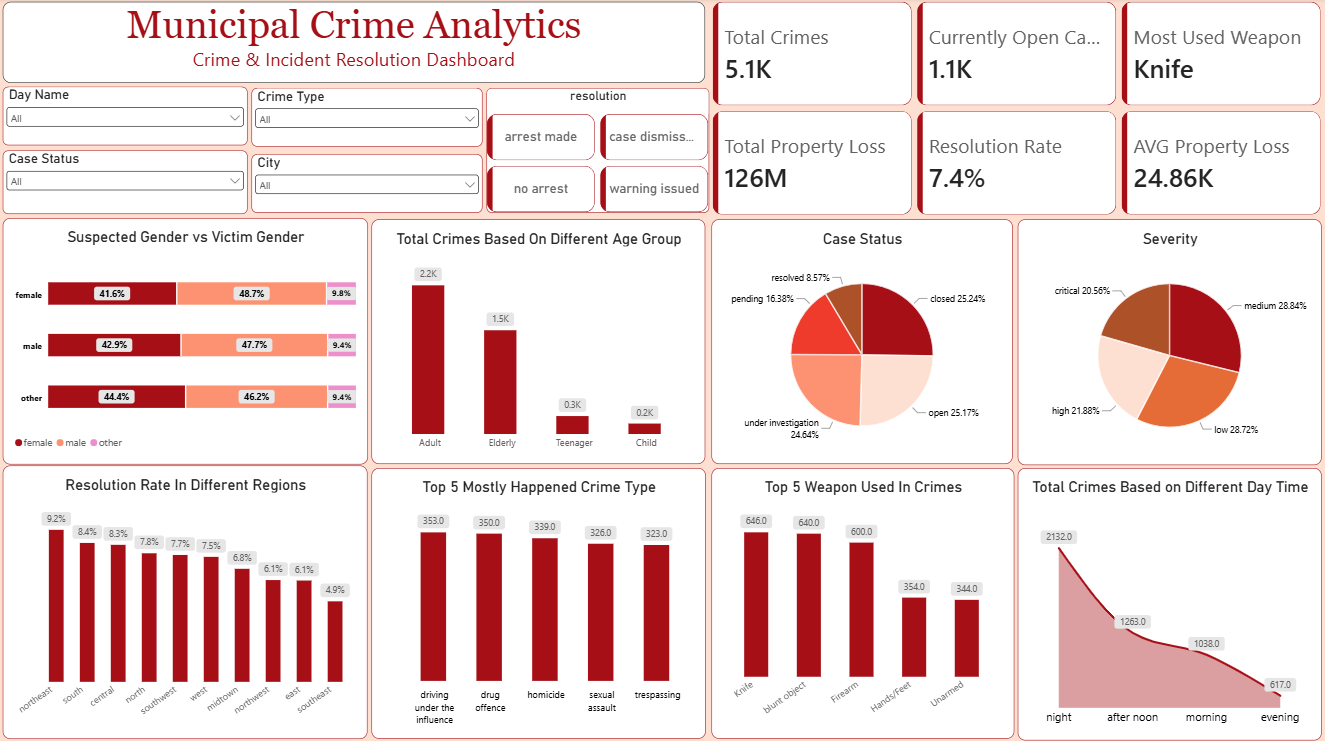

What the dashboard file says about the page in this screenshot:
{"tool":"powerbi","page":{"name":"Page 1","canvas":[1920,1080],"ordinal":0},"visuals":[{"type":"textbox","box":[5.4,5.4,1017,117.6],"z":0},{"type":"cardVisual","fields":{"Data":["crime_data crime_incidents.total_crimes","crime_data crime_incidents.currently_open_cases","crime_data crime_incidents.most_used_weapon","crime_data crime_incidents.total_property_loss","crime_data crime_incidents.Resolution Rate","crime_data crime_incidents.AVG Property Loss"]},"box":[1034,6,882,308],"z":1000},{"type":"areaChart","title":"Total Crimes Based on Different Day Time","fields":{"Category":["crime_data crime_incidents.day_time"],"Y":["crime_data crime_incidents.total_crimes"]},"box":[1474,680,440,394],"z":2000},{"type":"columnChart","title":"Top 5 Weapon Used In Crimes","fields":{"Category":["crime_data crime_incidents.weapon_used"],"Y":["crime_data crime_incidents.total_crimes"]},"box":[1032,680,438,392],"z":3000},{"type":"pieChart","title":"Case Status","fields":{"Category":["crime_data crime_incidents.case_status"],"Y":["crime_data crime_incidents.total_crimes"]},"box":[1032,320,436,354],"z":4000},{"type":"columnChart","title":"Top 5 Mostly Happened Crime Type","fields":{"Category":["crime_data crime_incidents.crime_type"],"Y":["crime_data crime_incidents.total_crimes"]},"box":[539.3,680.4,484,392],"z":5000},{"type":"pieChart","title":"Severity","fields":{"Category":["crime_data crime_incidents.severity"],"Y":["crime_data crime_incidents.total_crimes"]},"box":[1474,320,440,356],"z":6000},{"type":"hundredPercentStackedBarChart","title":"Suspected Gender vs Victim Gender","fields":{"Category":["crime_data crime_incidents.suspect_gender"],"Series":["crime_data crime_incidents.victim_gender"],"Y":["crime_data crime_incidents.total_crimes"]},"box":[5.4,318.5,528.4,356.5],"z":7000},{"type":"columnChart","title":"Resolution Rate In Different Regions","fields":{"Category":["crime_data crime_incidents.district"],"Y":["crime_data crime_incidents.Resolution Rate"]},"box":[6,676,528,396],"z":8000},{"type":"columnChart","title":"Total Crimes Based On Different Age Group","fields":{"Category":["crime_data crime_incidents.victim_age_group"],"Y":["crime_data crime_incidents.total_crimes"]},"box":[539.3,320.3,483.2,354.7],"z":9000},{"type":"slicer","fields":{"Values":["crime_data crime_incidents.day_name"]},"box":[5.4,128.5,354.7,85.1],"z":10000},{"type":"slicer","fields":{"Values":["crime_data crime_incidents.case_status"]},"box":[5.4,220.8,354.7,92.3],"z":10001},{"type":"slicer","fields":{"Values":["crime_data crime_incidents.crime_type"]},"box":[365.6,130.3,334.8,85.1],"z":10002},{"type":"slicer","fields":{"Values":["crime_data crime_incidents.city"]},"box":[365.6,226.2,334.8,85.1],"z":10003},{"type":"advancedSlicerVisual","fields":{"Values":["crime_data crime_incidents.resolution"]},"box":[705.8,130.3,322.1,181],"z":10004}]}

Visuals, with their boxes in screenshot pixels (x1, y1, x2, y2), scaled from the page's 1920x1080 canvas onto the 1325x741 screenshot:
textbox: detection(4, 4, 706, 84)
cardVisual - crime_data crime_incidents.total_crimes x crime_data crime_incidents.currently_open_cases: detection(714, 4, 1322, 215)
"Total Crimes Based on Different Day Time" areaChart: detection(1017, 467, 1321, 737)
"Top 5 Weapon Used In Crimes" columnChart: detection(712, 467, 1014, 736)
"Case Status" pieChart: detection(712, 220, 1013, 462)
"Top 5 Mostly Happened Crime Type" columnChart: detection(372, 467, 706, 736)
"Severity" pieChart: detection(1017, 220, 1321, 464)
"Suspected Gender vs Victim Gender" hundredPercentStackedBarChart: detection(4, 219, 368, 463)
"Resolution Rate In Different Regions" columnChart: detection(4, 464, 369, 736)
"Total Crimes Based On Different Age Group" columnChart: detection(372, 220, 706, 463)
slicer - crime_data crime_incidents.day_name: detection(4, 88, 249, 147)
slicer - crime_data crime_incidents.case_status: detection(4, 151, 249, 215)
slicer - crime_data crime_incidents.crime_type: detection(252, 89, 483, 148)
slicer - crime_data crime_incidents.city: detection(252, 155, 483, 214)
advancedSlicerVisual - crime_data crime_incidents.resolution: detection(487, 89, 709, 214)
